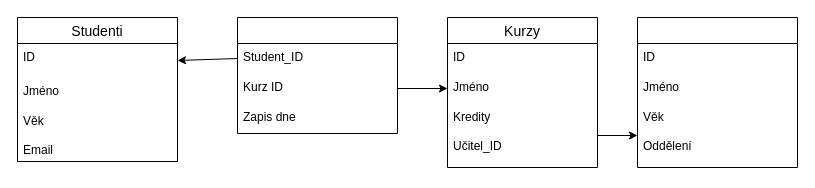
Image size: 815x188. Some labels were removed from this diagram. Each missing label, with the box of its shape:
Učitelé: (636, 16, 798, 168)
Zápis: (236, 16, 398, 134)
